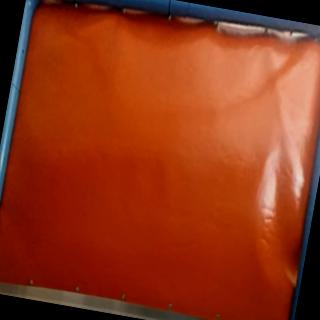Hit-hRxx: (274, 76, 290, 96)
